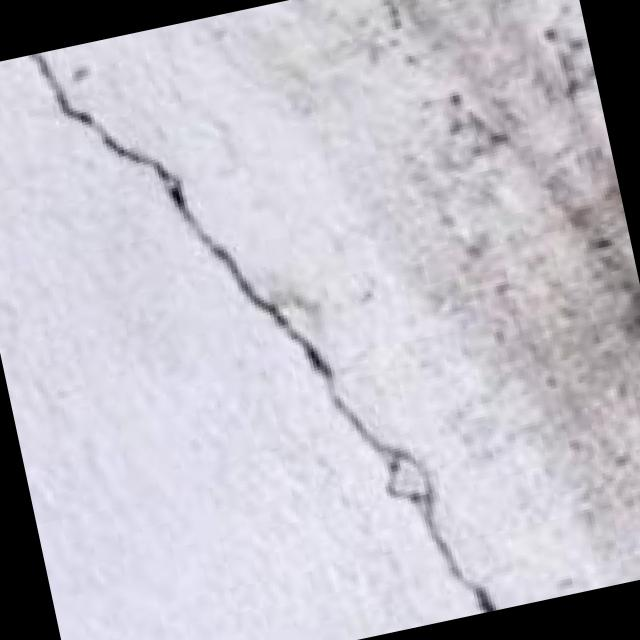crack: (29, 0, 460, 615)
